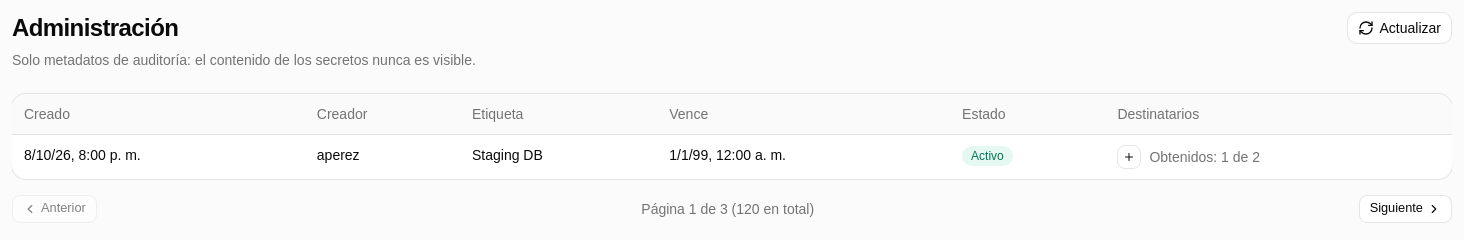
Test: AdminPage › paginates
Expected: the text "Staging DB" is shown, [460, 134, 657, 178]
Expected: the button "Anterior" is disabled, [12, 194, 97, 222]
Click the button "Siguiente": (1405, 208) [1359, 194, 1452, 222]
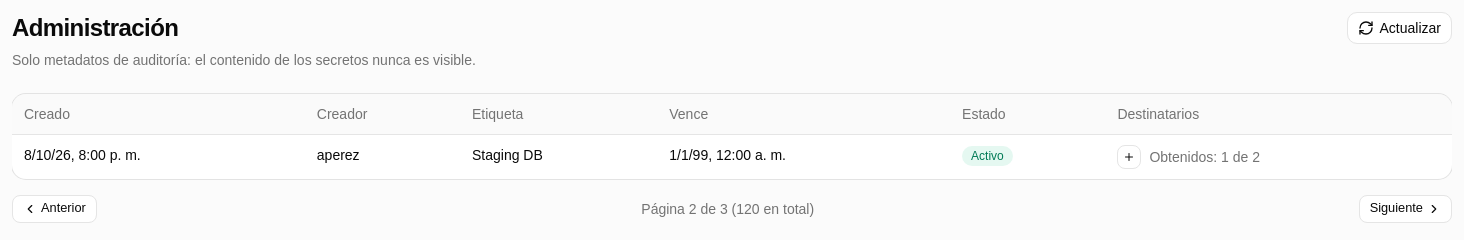
Expected: the text "Página 2 de 3 (120 en total)" is shown, [641, 198, 814, 218]
